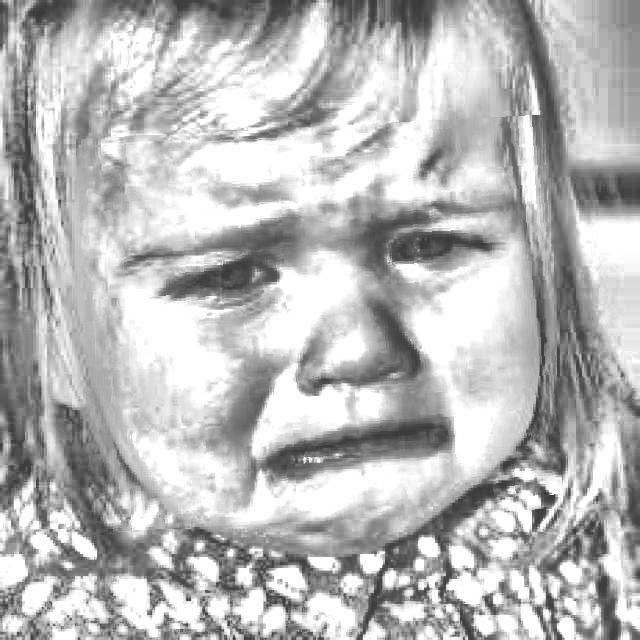sad: (81, 121, 559, 527)
